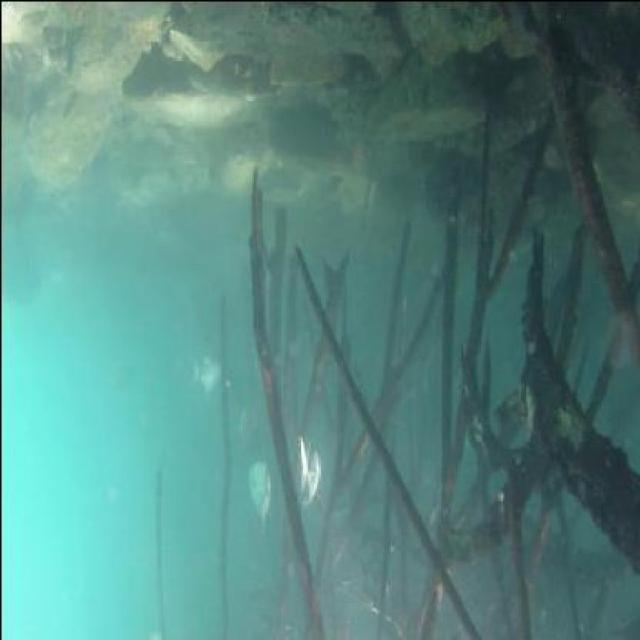Caranx_sexfasciatus_juvenile: (287, 424, 325, 514), (244, 452, 276, 532), (188, 338, 222, 399), (226, 393, 254, 461)
